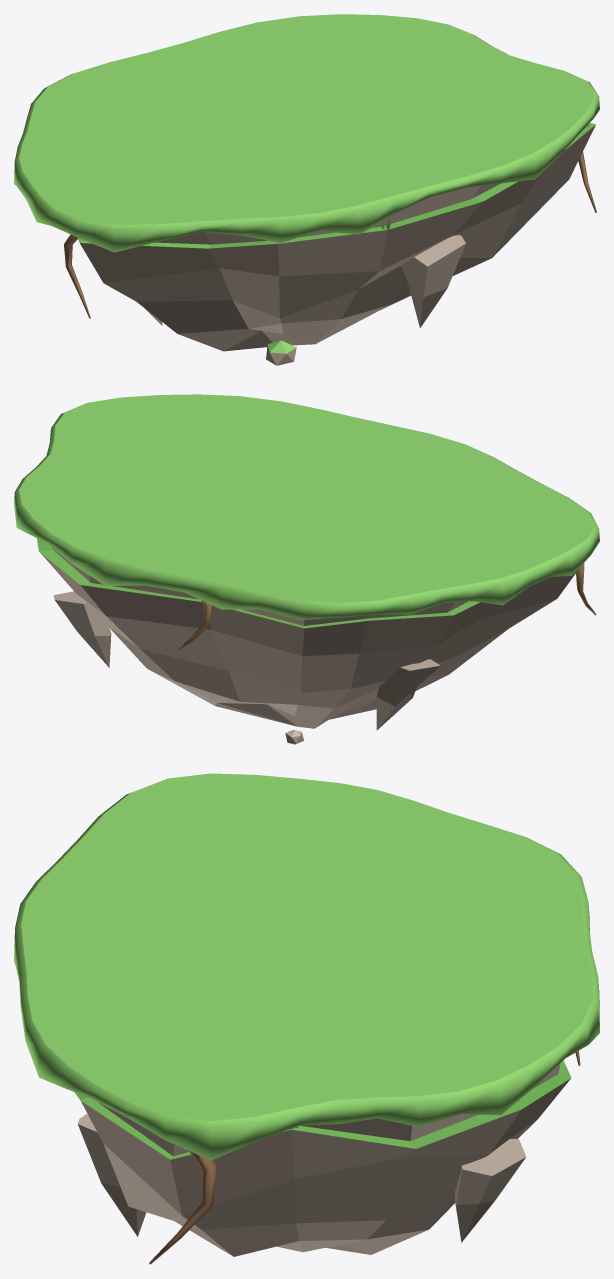
Rendered from island-b.glb.
3 views of the same model, one above another, from view 1: azimuth 30°, elevation 25°; view 2: azimuth 150°, elevation 25°; view 3: azimuth 270°, elevation 25° (orthographic). The views are drawn at different scales.
Parts seen in each view (by area): view 1: island-b; view 2: island-b; view 3: island-b.
Boxes of the visible parts, left/top/right/bottom form: island-b: left=14, top=14, right=599, bottom=365; island-b: left=14, top=394, right=599, bottom=744; island-b: left=14, top=773, right=599, bottom=1264.
Size of the model in its own units: 40 by 16 by 28.
